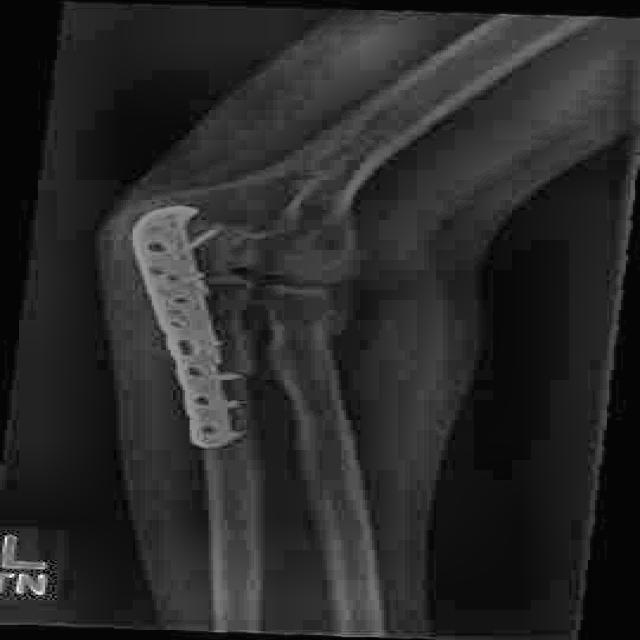elbow positive: (206, 129, 398, 272)
